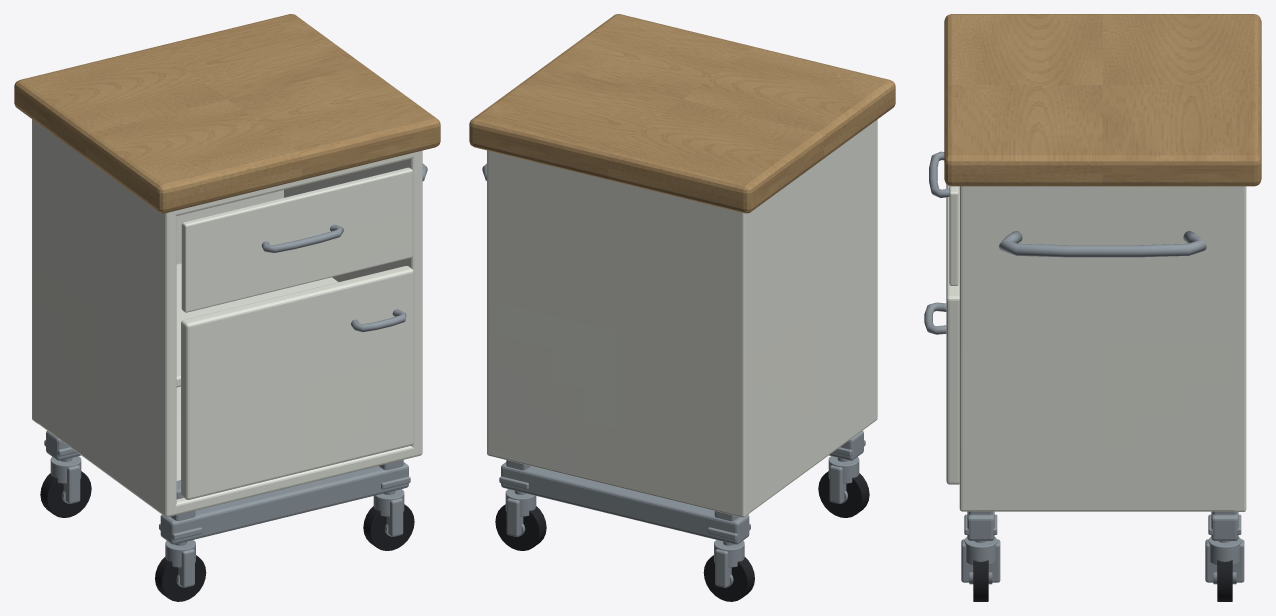
File: bedside_cabinet.glb
The picture shows the model from 3 angles, left to right: view 1: azimuth 30°, elevation 25°; view 2: azimuth 150°, elevation 25°; view 3: azimuth 270°, elevation 25°; orthographic projection. The views are drawn at different scales.
Parts seen in each view (by area): view 1: Bedside shelf support cleat, Wipe clean bedside top, Caster base crossbar, Cast polyurethane wheel; view 2: Bedside shelf support cleat, Wipe clean bedside top, Caster base crossbar, Cast polyurethane wheel; view 3: Bedside shelf support cleat, Wipe clean bedside top, Caster base crossbar, Cast polyurethane wheel.
Part boxes in pixels (box(x1,y1,x2,y2)): Bedside shelf support cleat: box(32, 119, 422, 517); Wipe clean bedside top: box(14, 14, 440, 213); Caster base crossbar: box(44, 163, 427, 587); Cast polyurethane wheel: box(40, 471, 414, 601); Bedside shelf support cleat: box(487, 119, 877, 517); Wipe clean bedside top: box(469, 14, 895, 213); Caster base crossbar: box(482, 163, 865, 587); Cast polyurethane wheel: box(495, 471, 869, 601); Bedside shelf support cleat: box(946, 184, 1246, 511); Wipe clean bedside top: box(944, 14, 1261, 186); Caster base crossbar: box(924, 151, 1244, 584); Cast polyurethane wheel: box(973, 560, 1232, 601).
Bounding box in the file's own units: 0.6128 × 0.8325 × 0.5525.
Materials: 4 (4 with a texture image).
